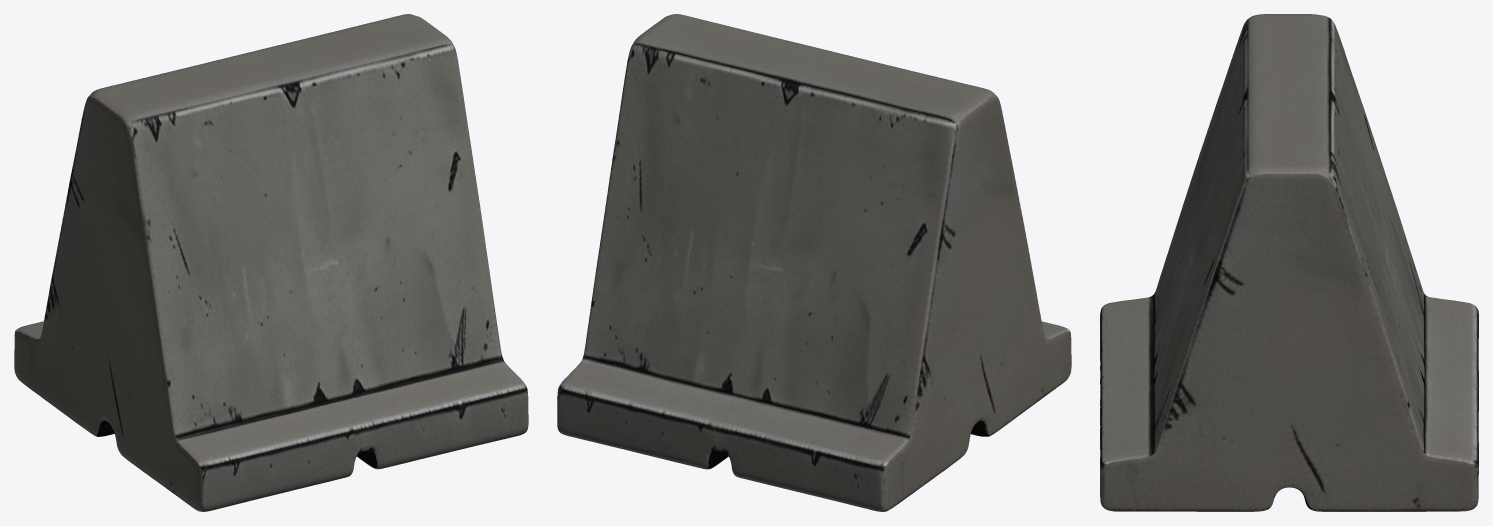
File: street-barrier.glb
3 views of the same model, side by side, from view 1: azimuth 30°, elevation 25°; view 2: azimuth 150°, elevation 25°; view 3: azimuth 270°, elevation 25° (orthographic).
Visible parts, largest first — view 1: tmp14dqdirl.ply; view 2: tmp14dqdirl.ply; view 3: tmp14dqdirl.ply.
Boxes of the visible parts, box(x1,y1,x2,y2) form: tmp14dqdirl.ply: box(14, 14, 528, 511); tmp14dqdirl.ply: box(557, 14, 1071, 511); tmp14dqdirl.ply: box(1100, 14, 1478, 511).
Size of the model in its own units: 1 by 1 by 1.
1 material, 1 textured.
